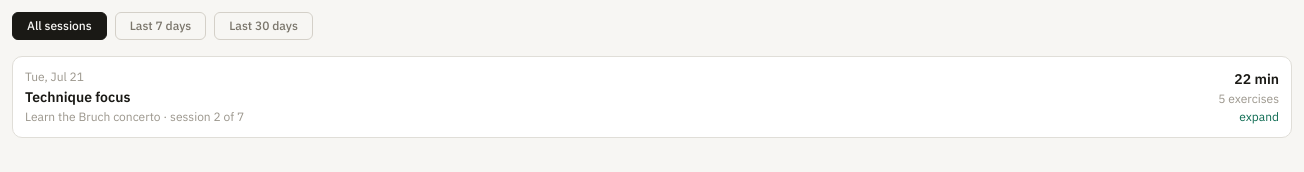
Test: HistoryList › distinguishes an empty time range from an empty history
Expected: the heading "Technique focus" is shown, [25,88,130,106]
Click the radio button labelled "Last 7 days" at [160, 26], box [115,12,206,40]
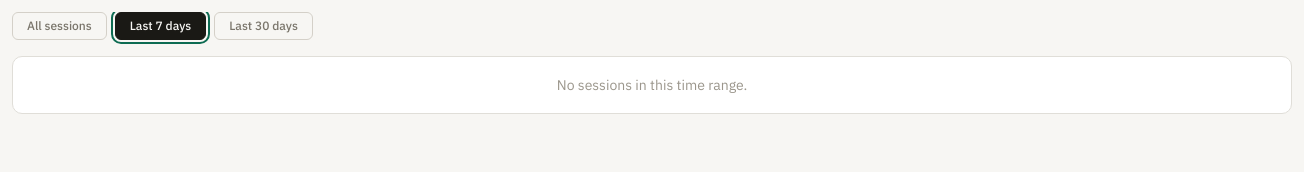
Expected: the text "No sessions in this time range." is shown, [557,76,747,94]
